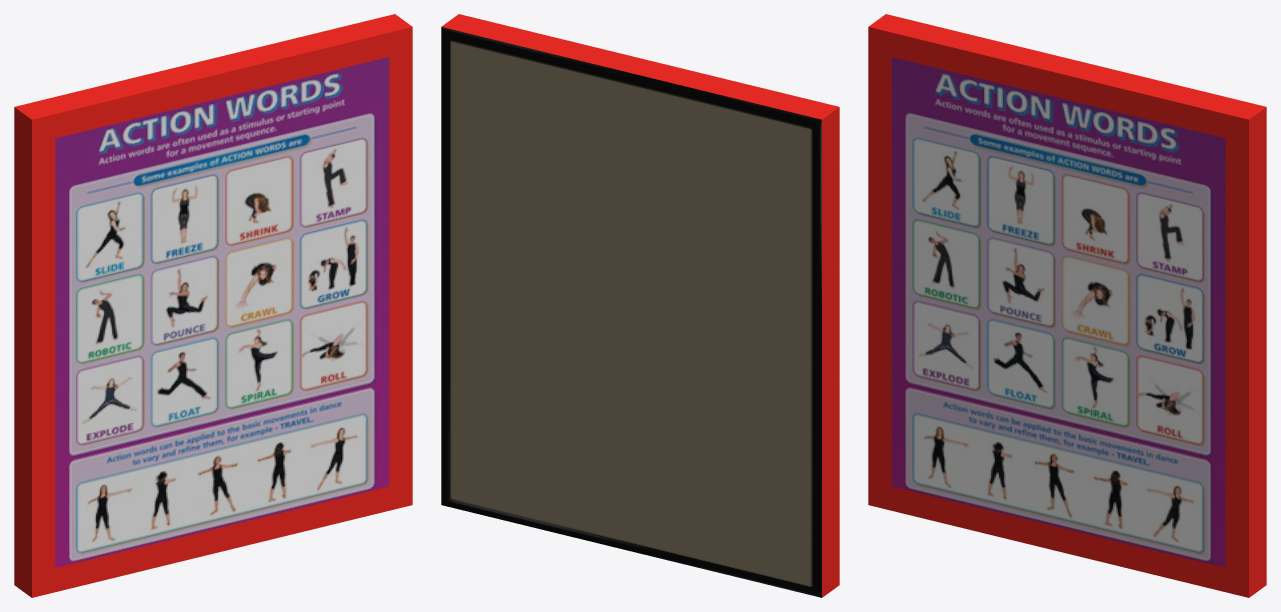
The model's file is poster7.FBX.
3 renders of one model, left to right at view 1: azimuth 30°, elevation 25°; view 2: azimuth 150°, elevation 25°; view 3: azimuth 330°, elevation 25°, orthographic.
Visible parts, largest first — view 1: poster7; view 2: poster7; view 3: poster7.
Part boxes in pixels (x1,y1,x2,y2): poster7: (14,14,412,597); poster7: (441,14,839,597); poster7: (868,14,1266,597).
Size of the model in its own units: 5 by 6 by 0.4.
